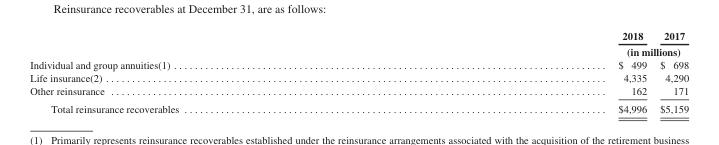table: (29, 29, 688, 114)
table column: (29, 29, 397, 114), (397, 29, 652, 114), (652, 29, 688, 114)
table column header: (29, 29, 688, 57)
table row: (29, 83, 688, 99), (29, 99, 688, 114), (29, 29, 688, 43), (29, 43, 688, 57), (29, 57, 688, 70), (29, 70, 688, 83)
table spanning cell: (397, 43, 688, 57)
